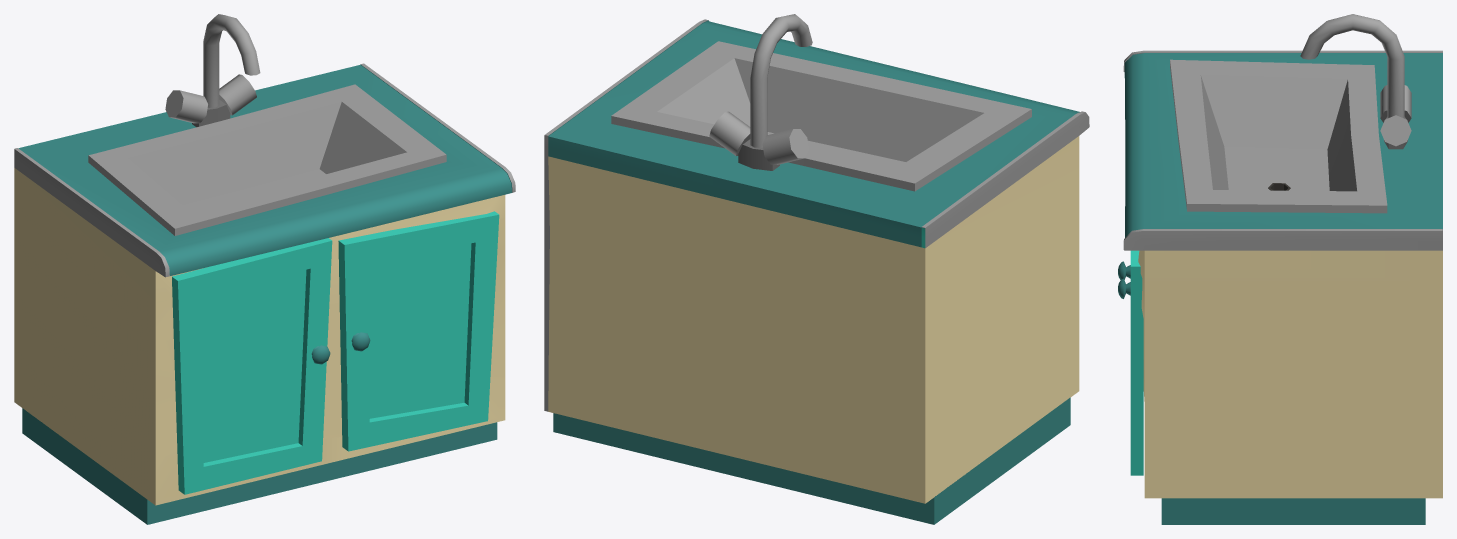
Rendered from WorkTable1.fbx.
3 renders of one model, left to right at view 1: azimuth 30°, elevation 25°; view 2: azimuth 150°, elevation 25°; view 3: azimuth 270°, elevation 25°, orthographic. The views are drawn at different scales.
Parts seen in each view (by area): view 1: Cube.001; view 2: Cube.001; view 3: Cube.001.
Part boxes in pixels (x1,y1,x2,y2): Cube.001: (14, 14, 515, 524); Cube.001: (544, 14, 1089, 524); Cube.001: (1118, 14, 1442, 524).
Bounding box in the file's own units: 100 × 109 × 76.23.
